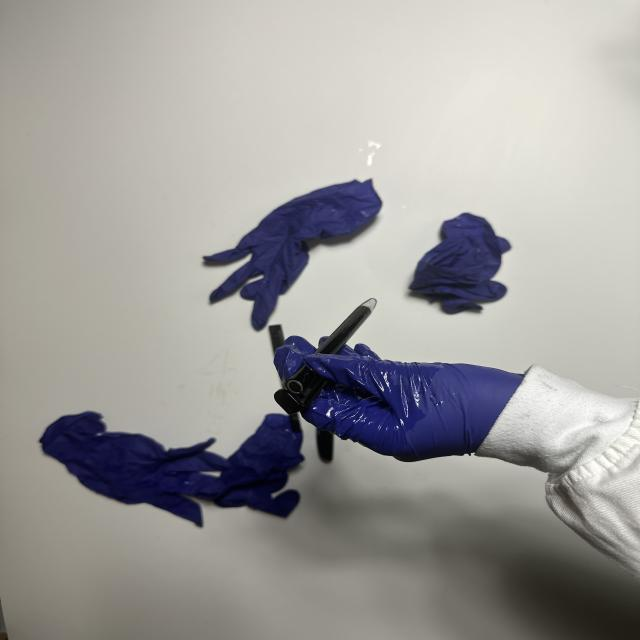gloves_contaminated: (274, 336, 524, 462)
